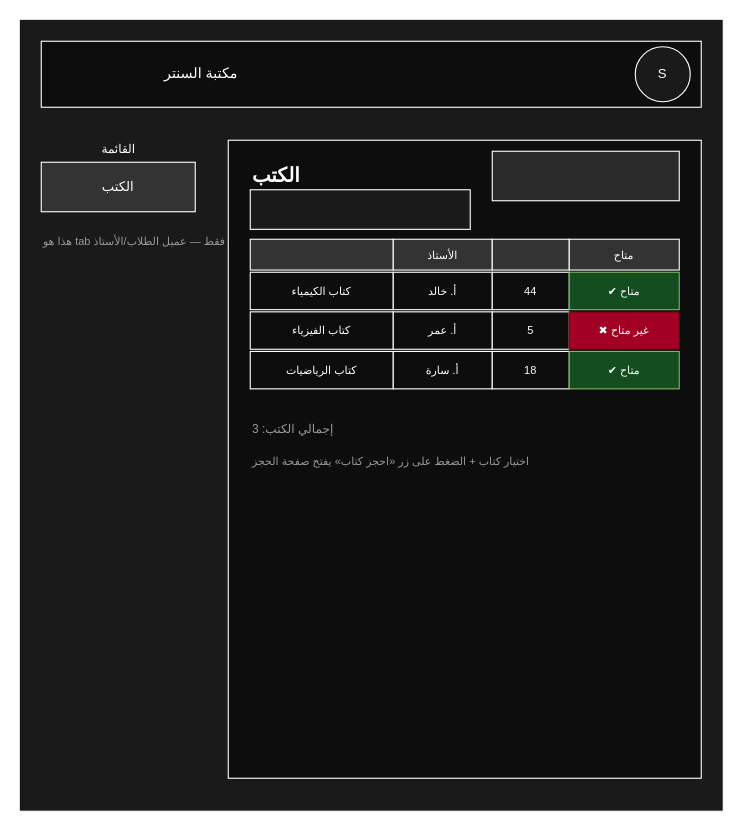
Image size: 743x831. Some labels were removed from this diagram. The box of each missing label's shape, as (x1, y1, x2, y2) in pixels:
احجز كتاب 📖: (491, 150, 679, 201)
اسم الكتاب: (249, 238, 393, 270)
العدد: (491, 238, 569, 270)
🔍 بحث عن كتاب أو أستاذ…: (249, 189, 470, 229)
